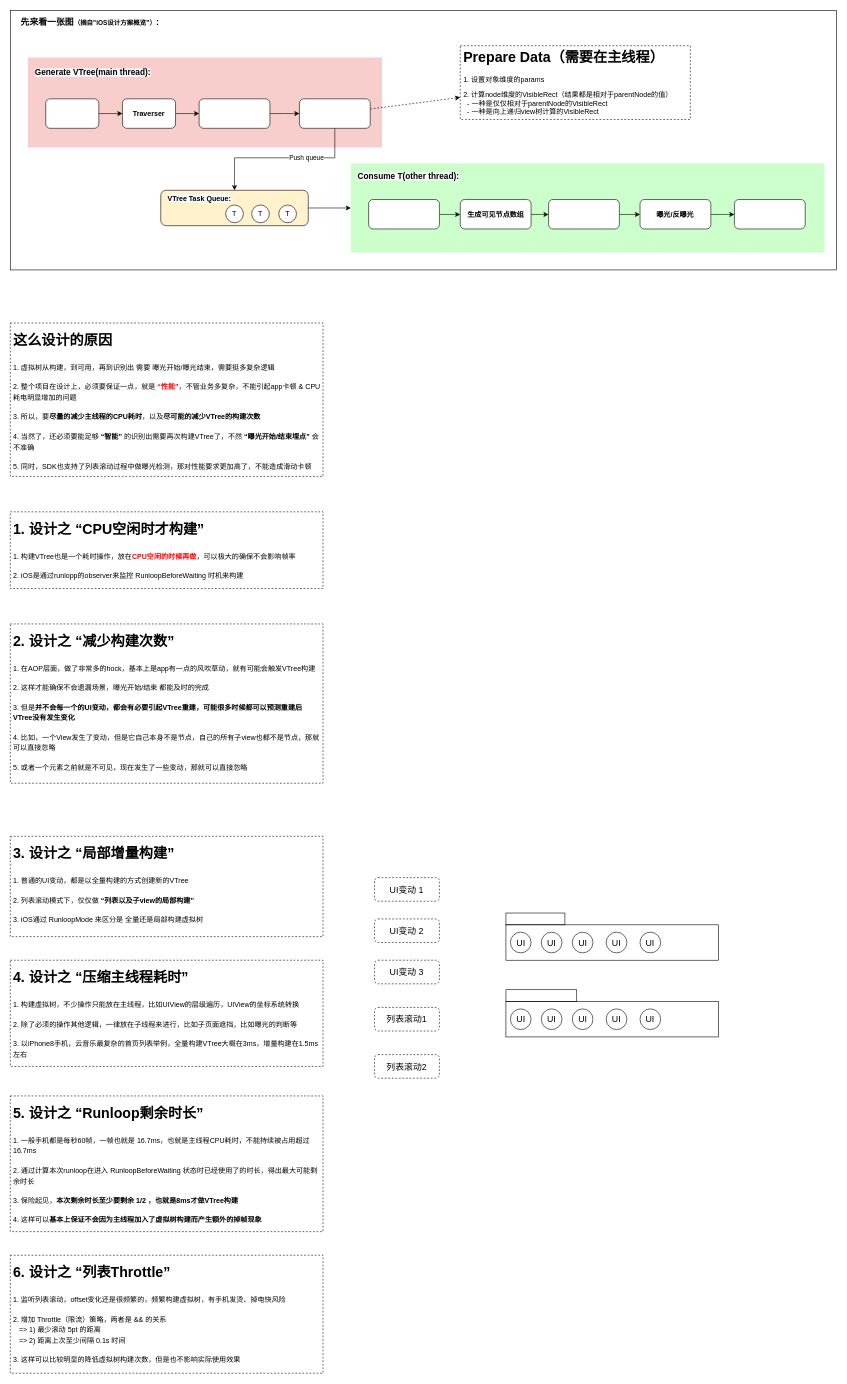
The diagram is 847 pixels wide and 1384 high, and some of its shapes have lost their labels. The shapes that lost their labels are listed below. From the top down, each one's box as (x1, y1, x2, y2) in pixels, then its label:
(45, 98, 99, 128): Traverser Runner
(199, 98, 270, 128): VTree
(299, 98, 370, 128): Node Prepare Data
(368, 199, 439, 229): 遮挡计算
(548, 199, 619, 229): 可见节点数组diff
(734, 199, 805, 229): output
(505, 912, 565, 925): UI变动Queue
(505, 989, 577, 1002): 列表变动Queue
